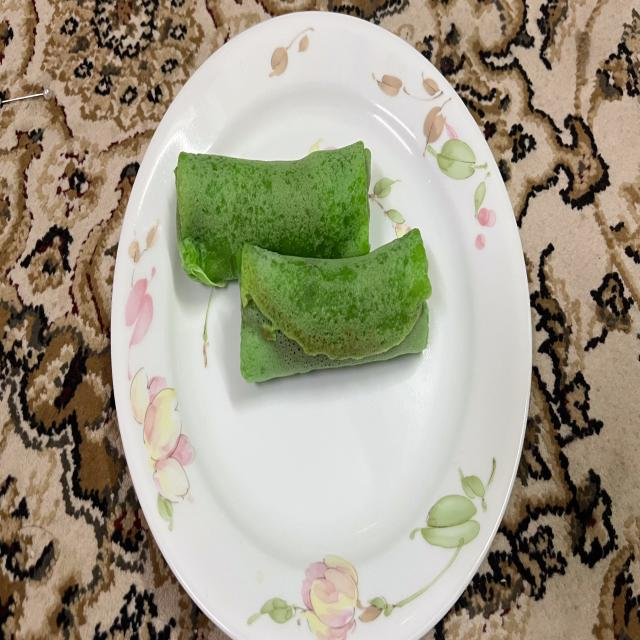Kuih-Ketayap: (238, 229, 431, 382), (175, 142, 371, 284)
